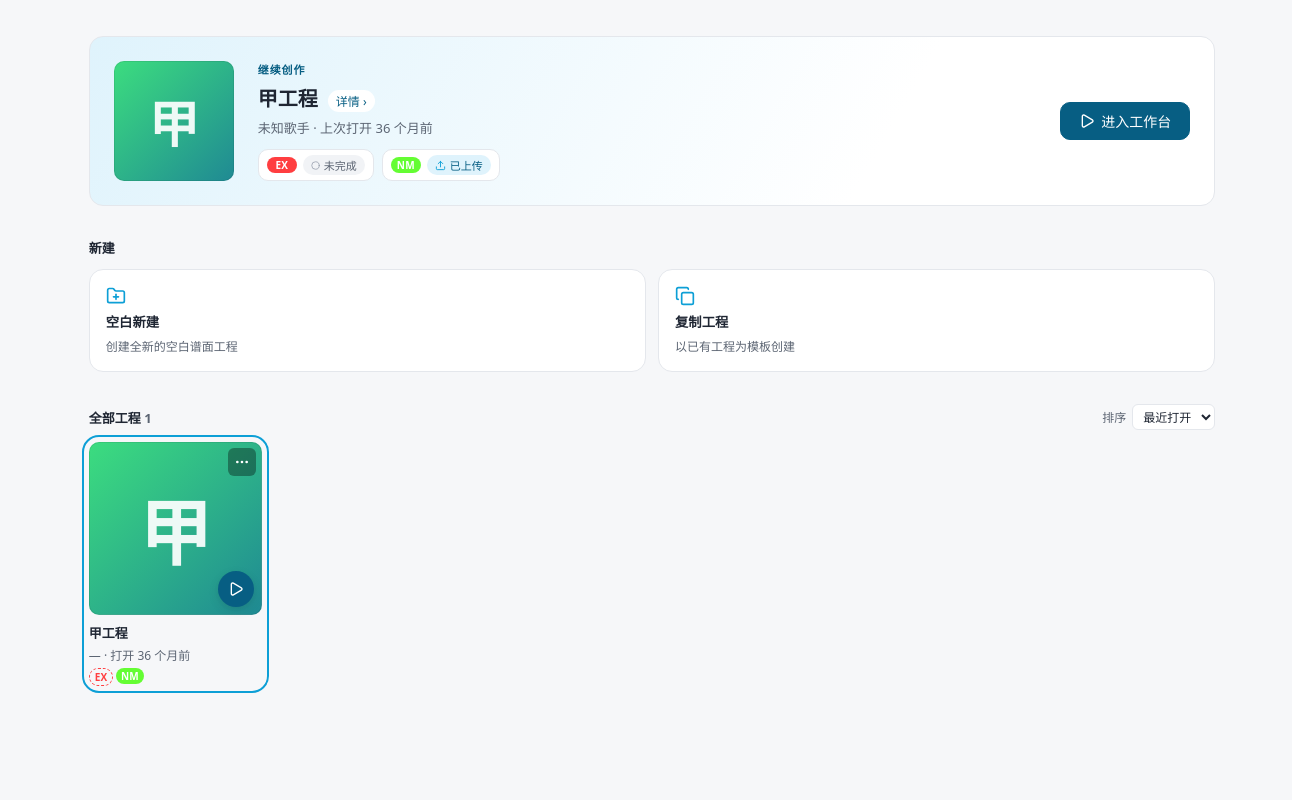
Test: issue 19 #2 · 难度+等级徽标就地编辑 › 已上传谱面的徽标：只 toast 提示，不弹浮层、不改数据
Click the element showing "甲 甲工程 — · 打开 36 个月前 EX NM" at (175, 564), box [89,442,262,686]
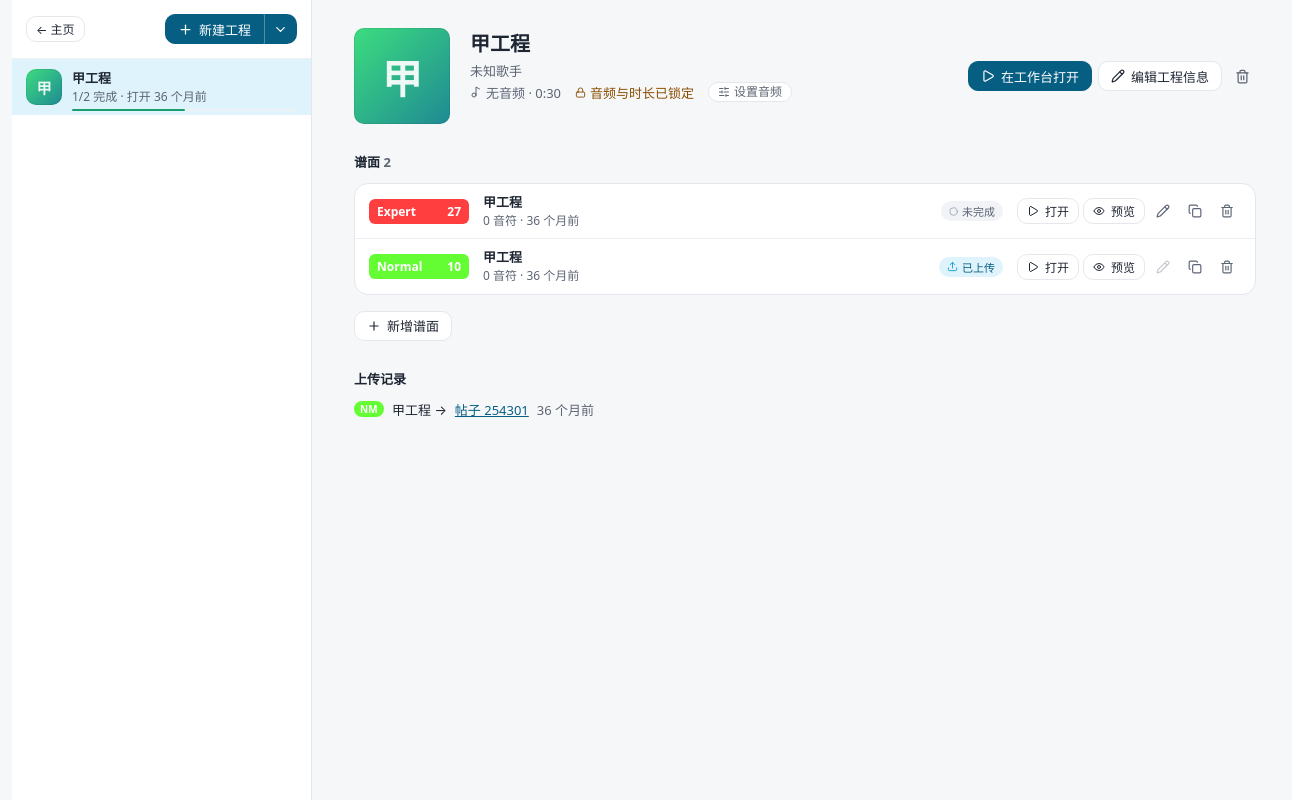
Check: the heading "甲工程" is shown, box [470,30,530,57]
Click the button titled "点击改难度 / 等级" at (419, 267), box [369,254,469,279]
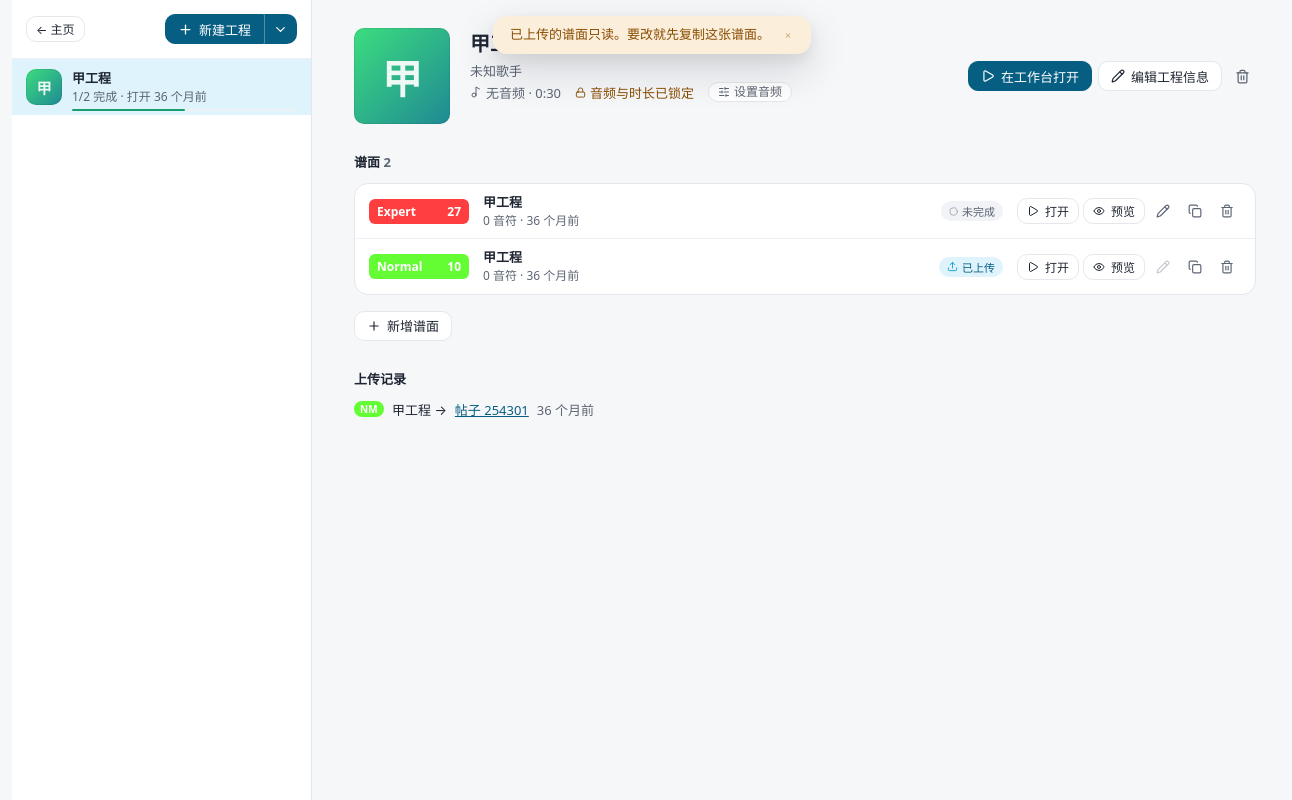
Check: the text "已上传的谱面只读。要改就先复制这张谱面。" is shown, box [510,25,770,45]
